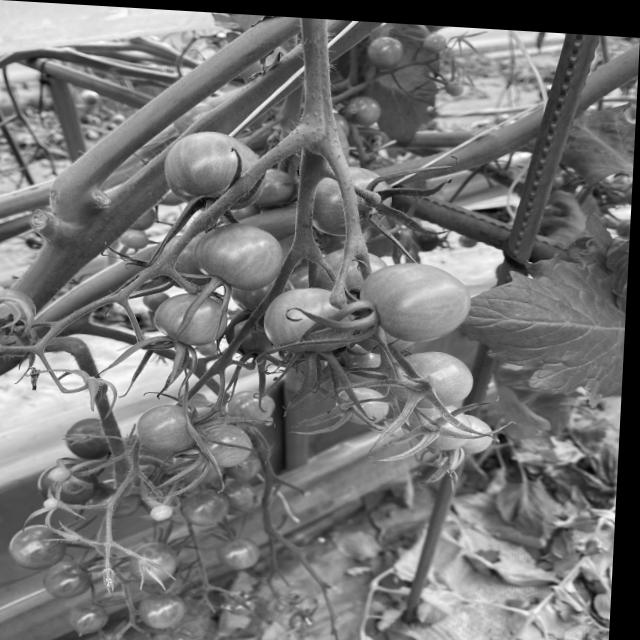yesil: (116, 87, 545, 405)
